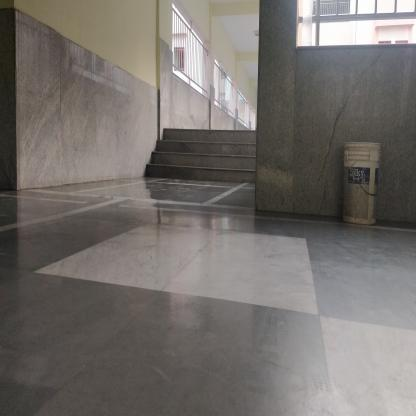stairs: (165, 127, 256, 186)
